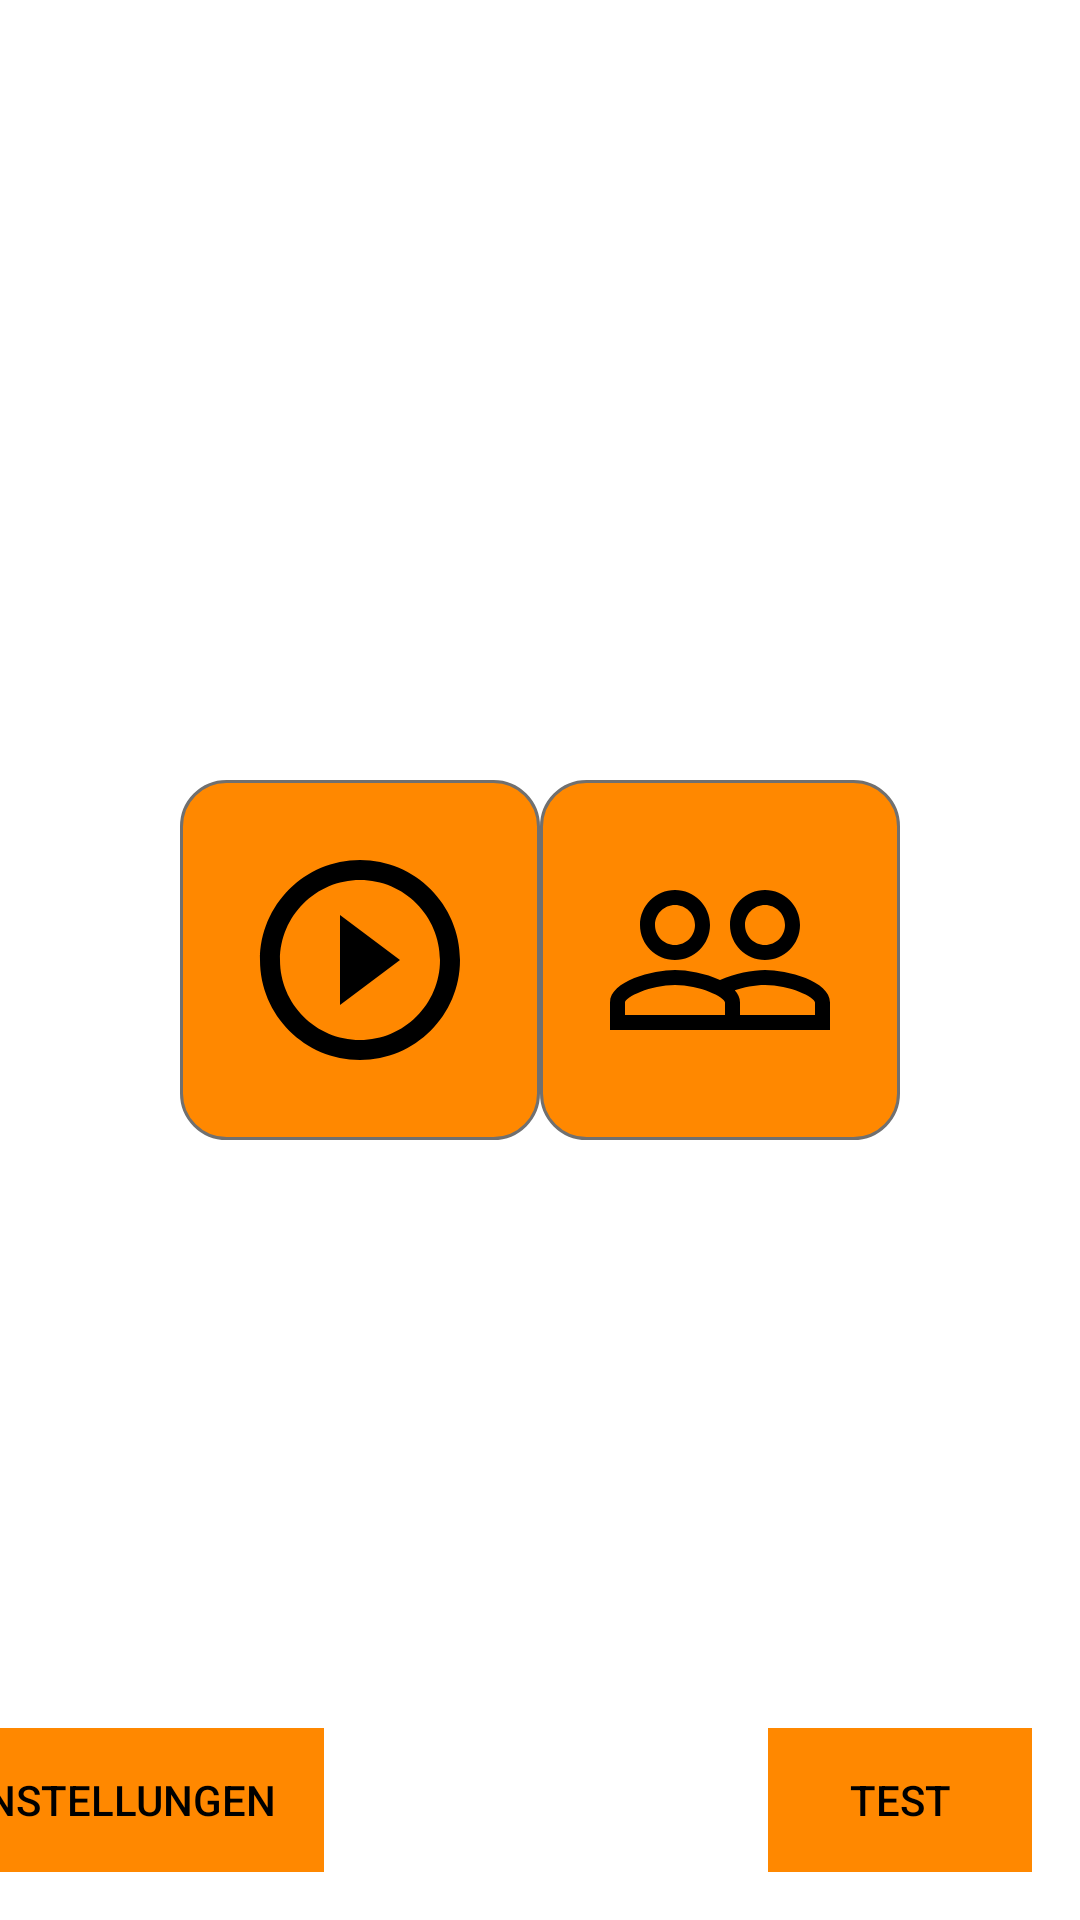

Icons on this 1080px x 1920px Android screen, each with the point to tap as (x=x, y=y):
people: (x=720, y=960)
play circle: (x=360, y=960)
